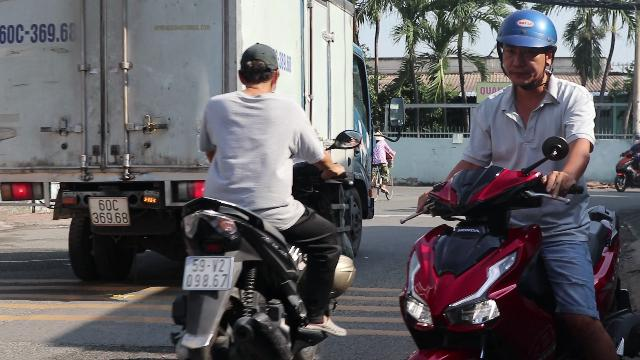helmet: (495, 8, 559, 88)
licenseplate: (182, 256, 232, 288)
motorcyclist: (393, 6, 639, 358), (166, 40, 362, 356)
nohelmet: (234, 42, 282, 90)
